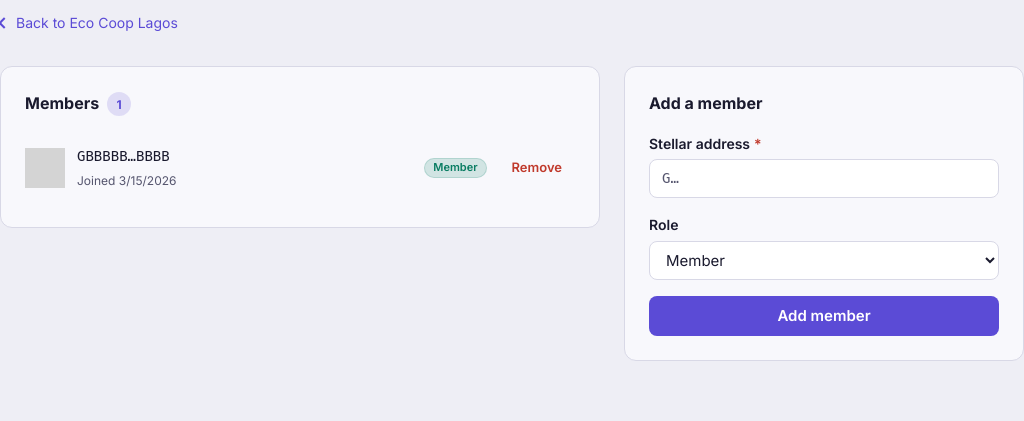
Test: MembersPage › add member form › announces the validation error via role="alert"
In the field labelled "Stellar address*": x=824, y=179 [649,159,999,198], type "bad"
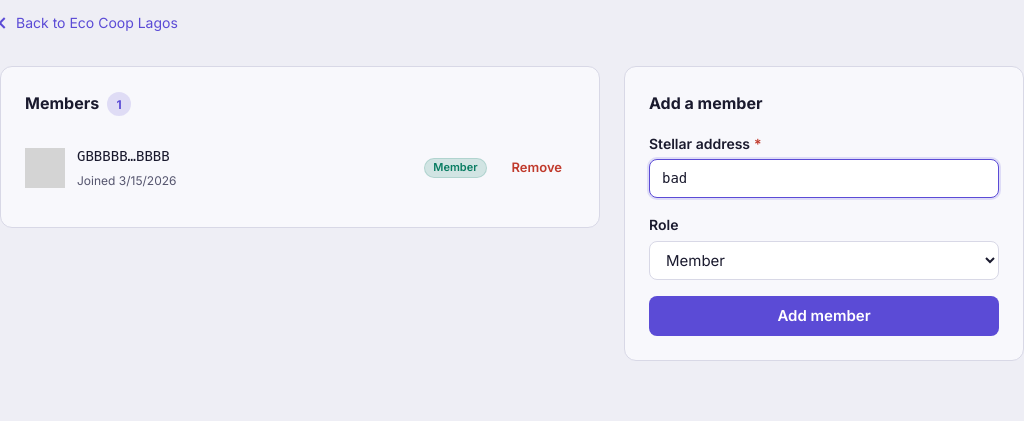
Click the button "Add member": x=824, y=316 [649,296,999,336]
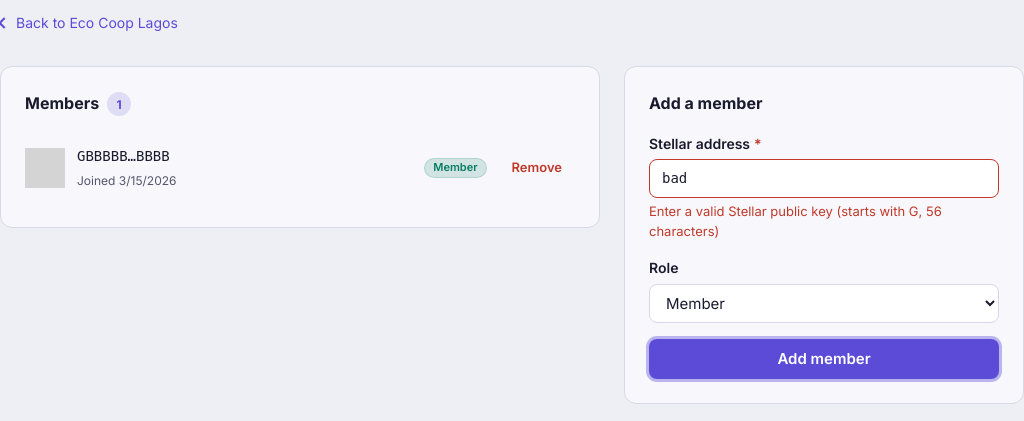
Check: the message "Enter a valid Stellar public key (starts with G, 56 characters)" is shown, box [649,203,942,239]
